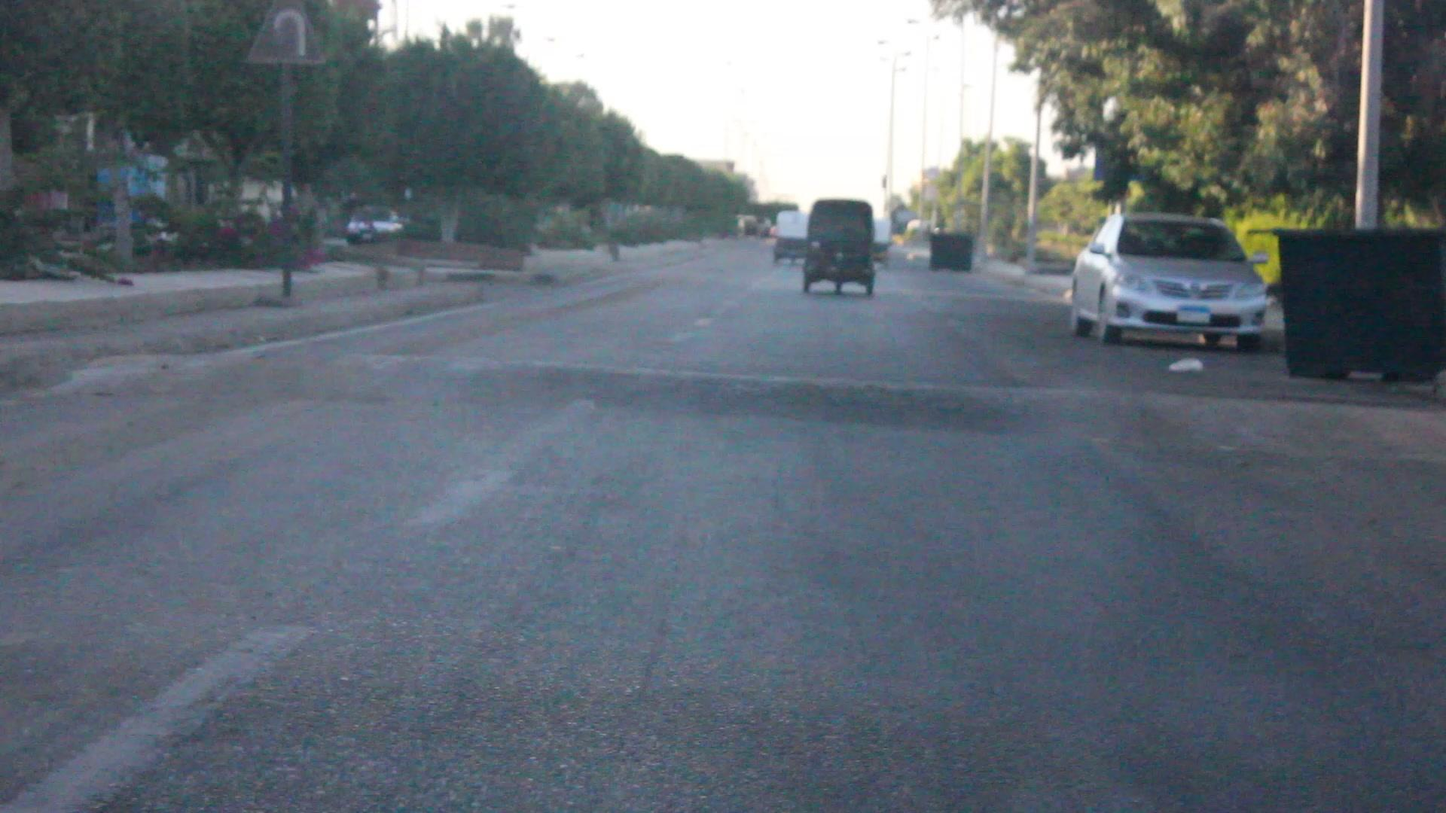Bump: (85, 346, 1433, 474)
